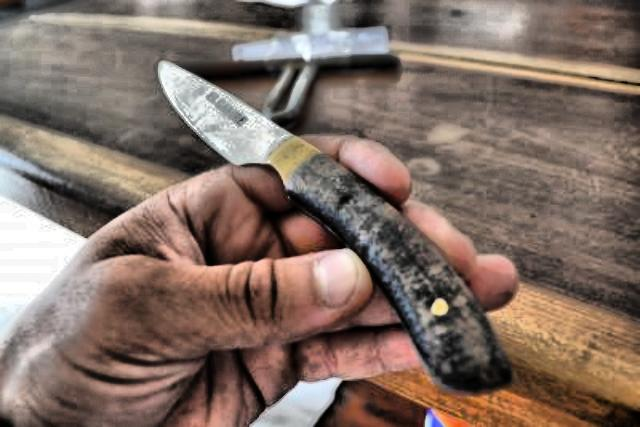knife: (149, 51, 517, 393)
